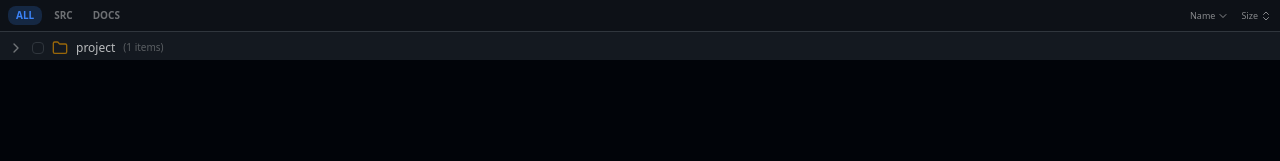
it: FileTree Indexing Scenarios › Initial render with various structures › should render nested directory structure
Expected: the text "project" is shown, [76,38,115,56]
Click the button with test id "expand-icon" at (16, 48), box [6,38,26,58]
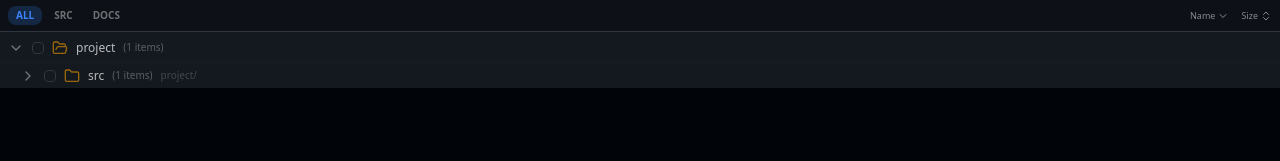
Result: the text "src" is shown at [88,66,104,84]
Click the 2nd button with test id "expand-icon" at (28, 76), box [18,66,38,86]
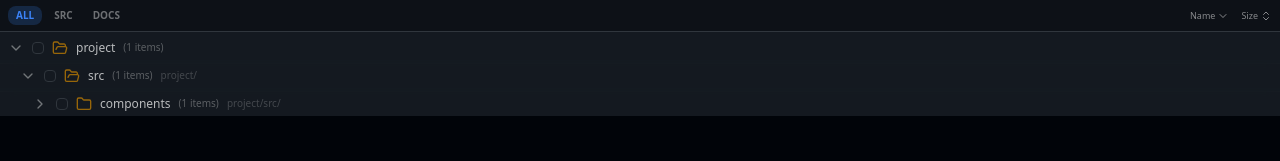
Result: the text "components" is shown at [100,94,171,112]
Click the 3rd button with test id "expand-icon" at (40, 104), box [30,94,50,114]
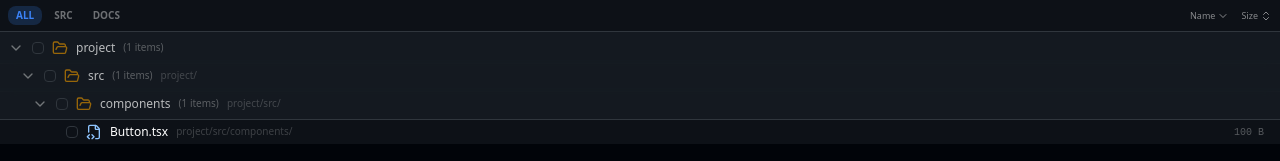
Result: the text "Button.tsx" is shown at [110,122,168,140]
